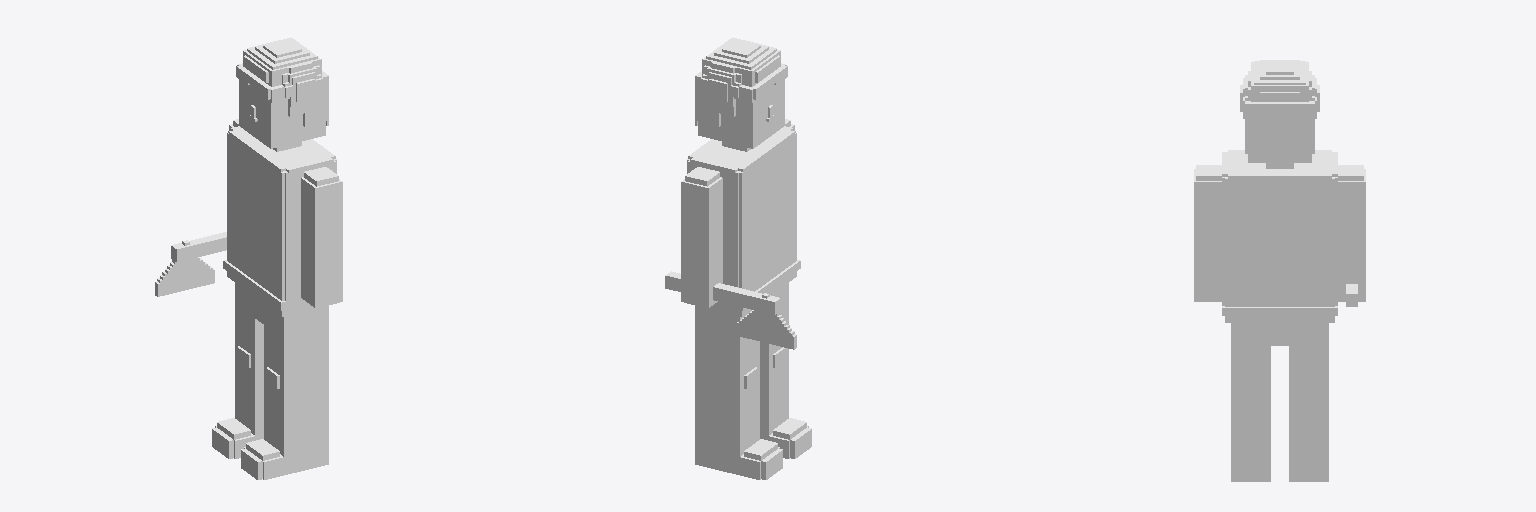
File: Woodman.obj
3 views of the same model, side by side, from view 1: azimuth 30°, elevation 25°; view 2: azimuth 150°, elevation 25°; view 3: azimuth 270°, elevation 25° (orthographic).
Parts seen in each view (by area): view 1: object 1; view 2: object 1; view 3: object 1.
Boxes of the visible parts, box(x1,y1,x2,y2) form: object 1: box(155, 37, 342, 479); object 1: box(665, 37, 811, 479); object 1: box(1194, 60, 1365, 481).
Size of the model in its own units: 5.1 by 15.5 by 6.